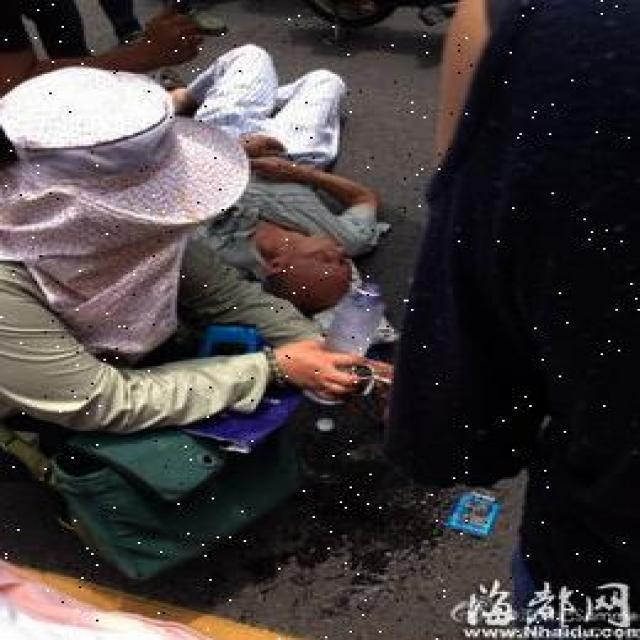fall: (170, 44, 382, 294)
